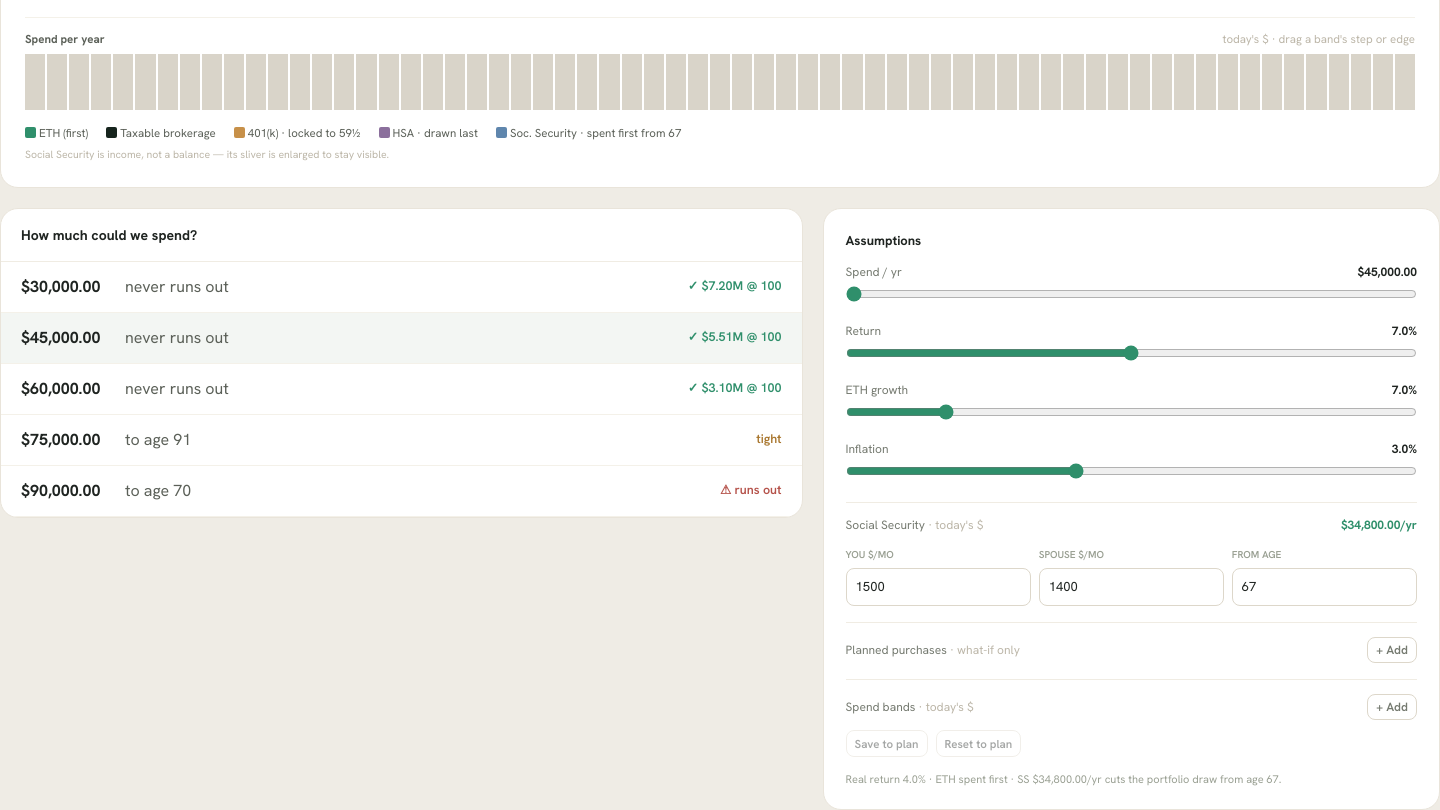
Scenario: planned purchases section › adds a purchase and refetches with its param
(page scrolled)
Click the button with test id "forecast-purchase-add". click: (1392, 650)
box: x1=1367 y1=637 x2=1417 y2=663
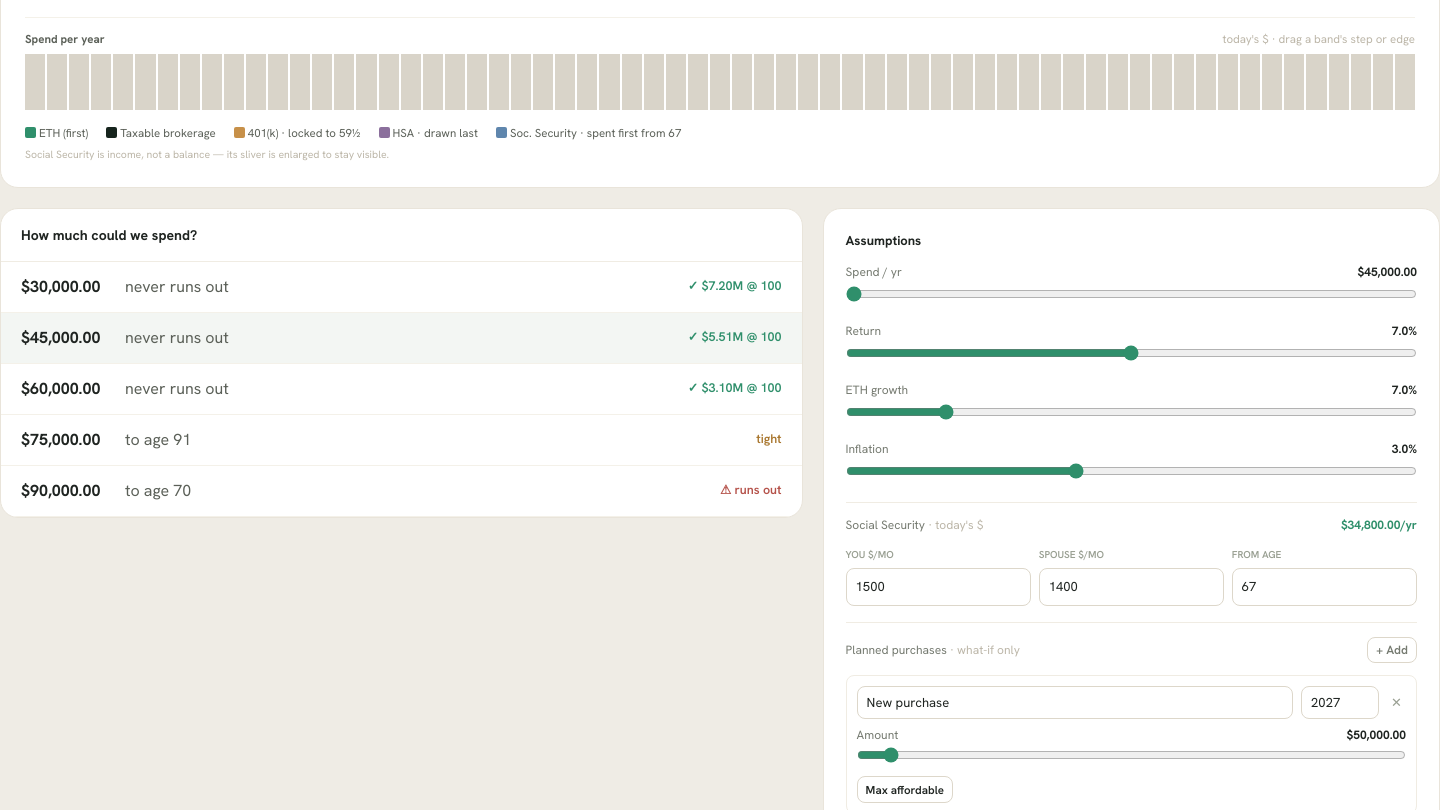
Expected: the field with test id "forecast-purchase-name-0" holds "New purchase", x1=857 y1=686 x2=1293 y2=719
